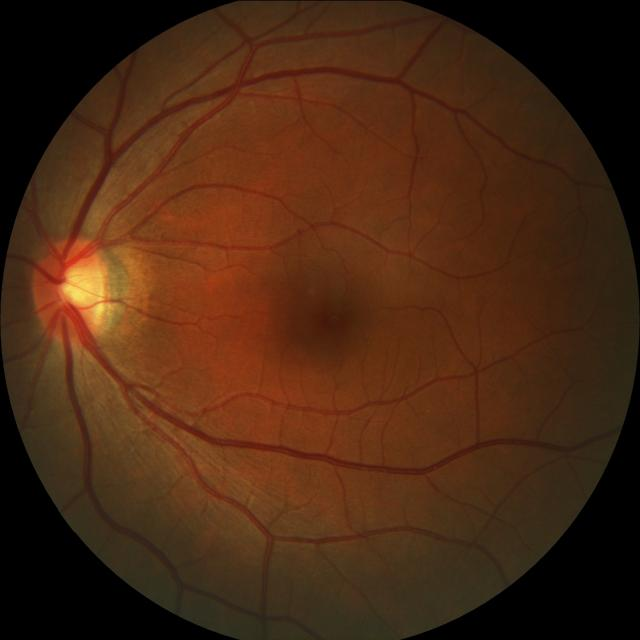OC: (56, 264, 99, 310)
OD: (33, 235, 111, 341)
